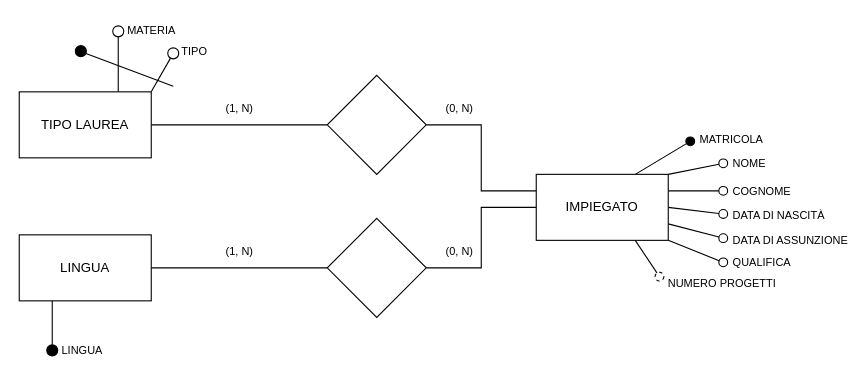
The diagram is 868 pixels wide and 383 high, and some of its shapes have lost their labels. The centre of each missing label's shape, as x and y in pixels:
"CONOSCE LINGUA" belongs at pixel 376 267.
"POSSIEDE LAUREA" belongs at pixel 376 124.
